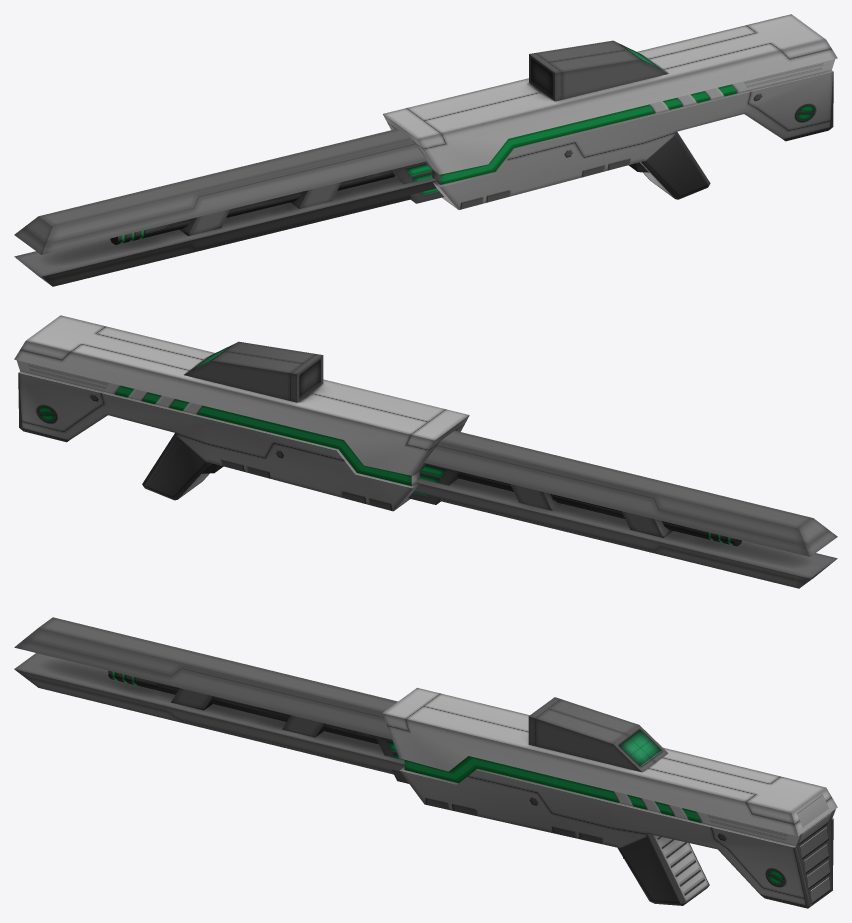
The model's file is Laser_Rifle.fbx.
3 views of the same model, one above another, from view 1: azimuth 30°, elevation 25°; view 2: azimuth 150°, elevation 25°; view 3: azimuth 330°, elevation 25° (orthographic).
Parts seen in each view (by area): view 1: blaster; view 2: blaster; view 3: blaster.
Part boxes in pixels (bbox=[...]): blaster: bbox=[14, 14, 837, 286]; blaster: bbox=[14, 315, 837, 588]; blaster: bbox=[14, 617, 837, 908].
Size of the model in its own units: 2337 by 444 by 202.
Materials: 1 (1 with a texture image).
